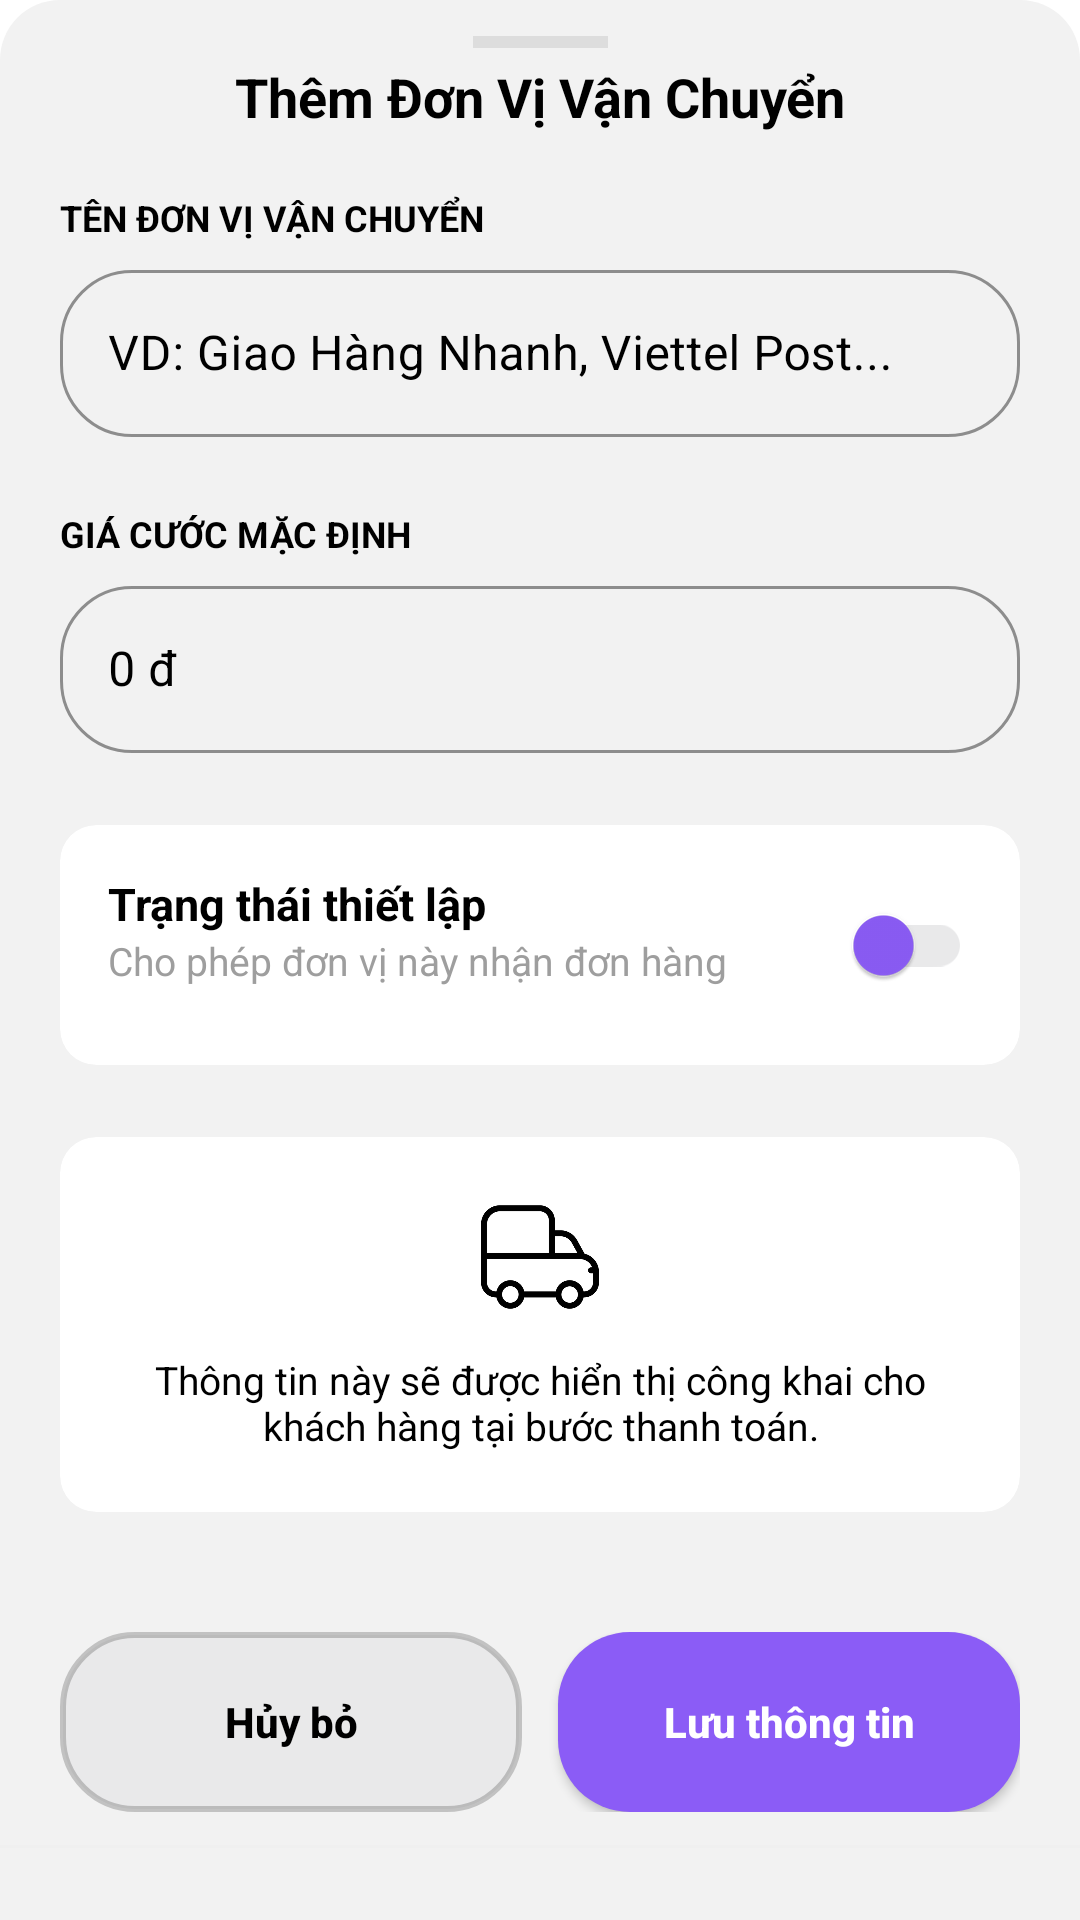

Icons on this 1080 × 1920 Android screen, each with its box as (x1, y1, x2, y2):
dang giao hang: (481, 1205, 599, 1309)
